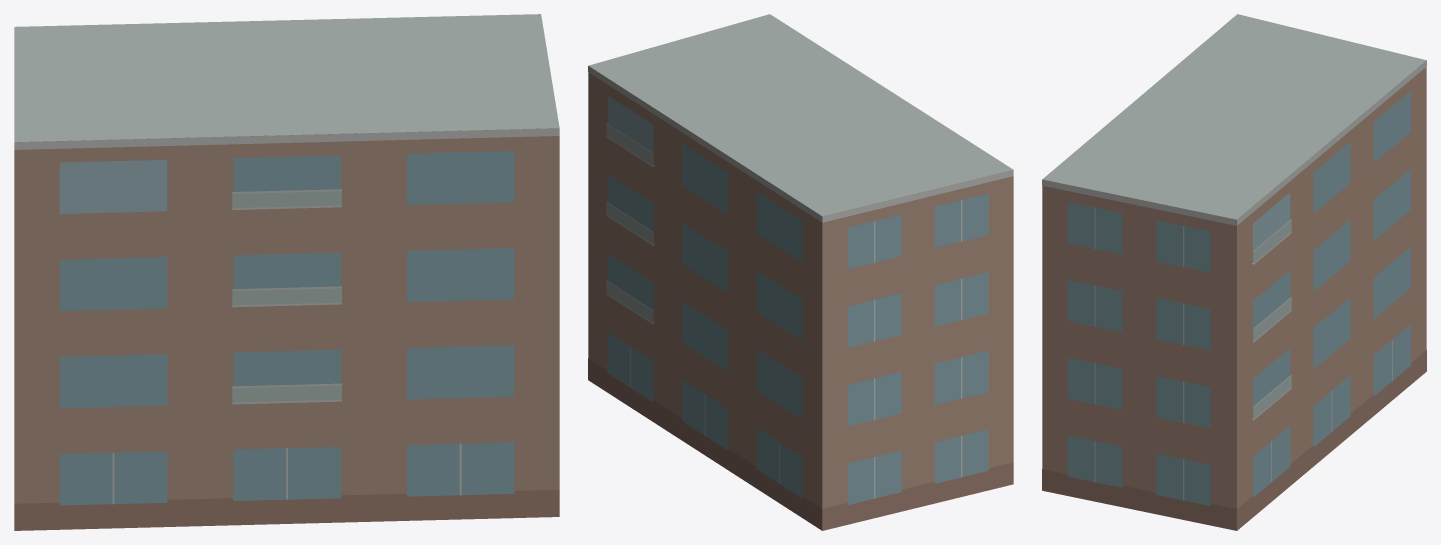
File: survey-upis-32893105.glb
The picture shows the model from 3 angles, left to right: view 1: azimuth 30°, elevation 25°; view 2: azimuth 150°, elevation 25°; view 3: azimuth 270°, elevation 25°; orthographic projection. The views are drawn at different scales.
Visible parts, largest first — view 1: survey-upis-32893105.tmp; view 2: survey-upis-32893105.tmp; view 3: survey-upis-32893105.tmp.
Boxes of the visible parts, x1=… form: survey-upis-32893105.tmp: x1=14, y1=14, x2=559, y2=530; survey-upis-32893105.tmp: x1=588, y1=14, x2=1013, y2=530; survey-upis-32893105.tmp: x1=1042, y1=14, x2=1426, y2=530.
Size of the model in its own units: 17.3 by 12.2 by 13.67.
